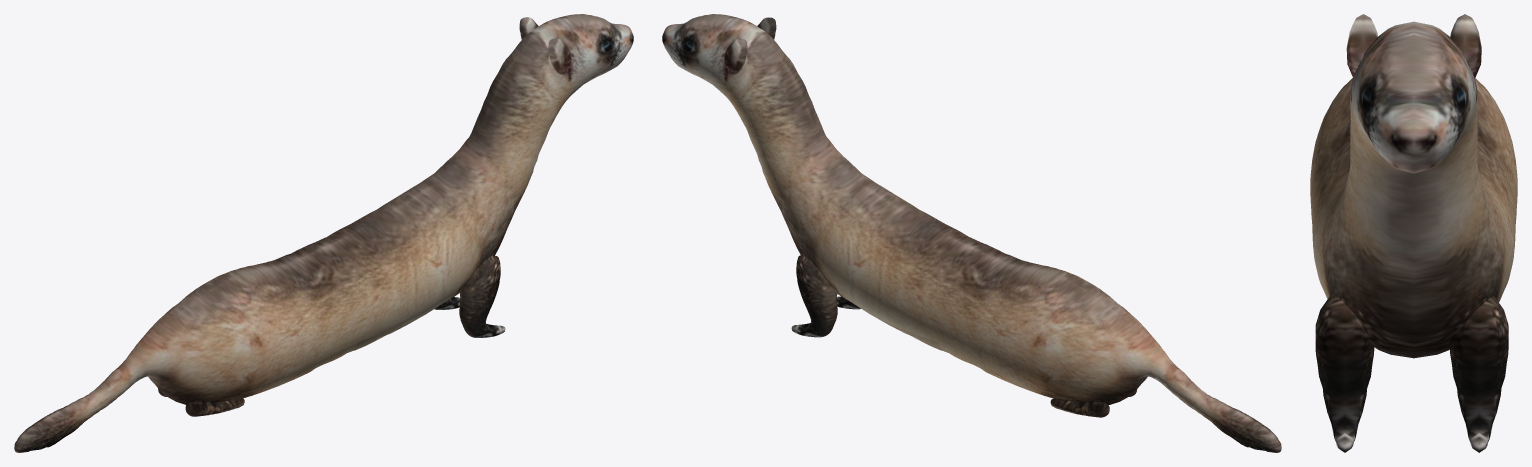
File: ferret.glb
3 views of the same model, side by side, from view 1: azimuth 30°, elevation 25°; view 2: azimuth 150°, elevation 25°; view 3: azimuth 270°, elevation 25° (orthographic). The views are drawn at different scales.
Parts seen in each view (by area): view 1: mm_frame (13); view 2: mm_frame (13); view 3: mm_frame (13).
Boxes of the visible parts, box(x1,y1,x2,y2) form: mm_frame (13): box(14, 14, 633, 452); mm_frame (13): box(662, 14, 1281, 452); mm_frame (13): box(1310, 14, 1517, 452).
Size of the model in its own units: 7.66 by 3.56 by 1.27.
1 material, 1 textured.
